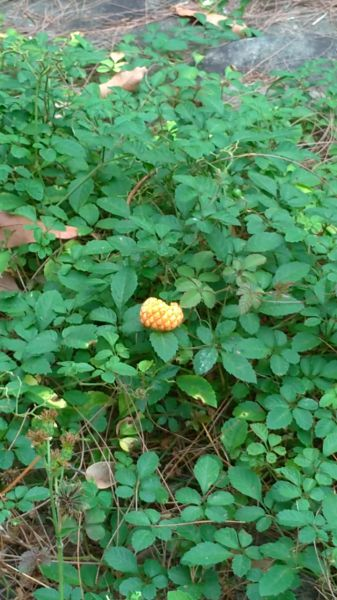eggs: (136, 294, 188, 334)
